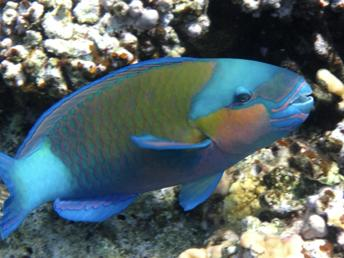Scaridae -Parrotfishes-: (0, 54, 322, 244)
